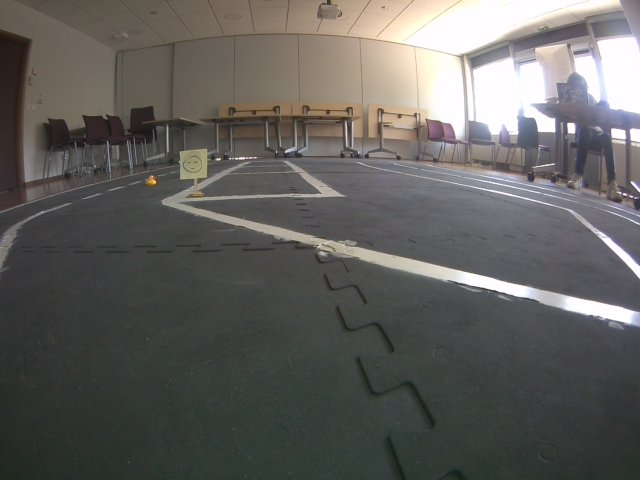Smiley: (176, 146, 209, 181)
